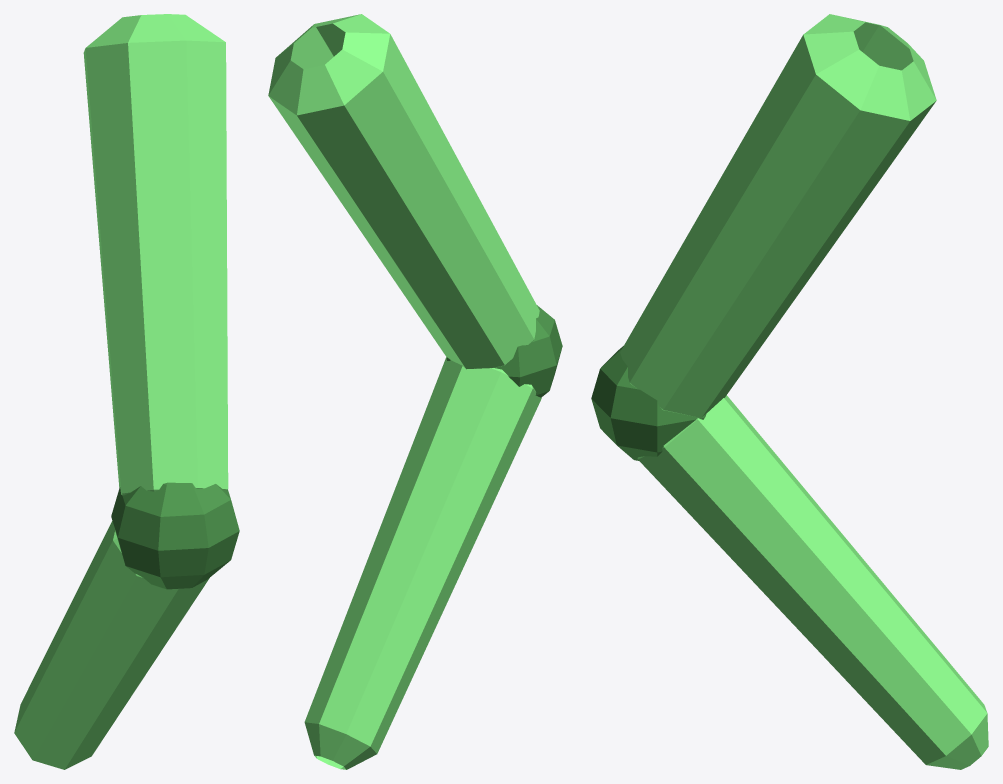
The model's file is imp_leg_L.obj.
The picture shows the model from 3 angles, left to right: view 1: azimuth 30°, elevation 25°; view 2: azimuth 150°, elevation 25°; view 3: azimuth 270°, elevation 25°; orthographic projection. The views are drawn at different scales.
Visible parts, largest first — view 1: leg_upper_L, leg_lower_L, leg_joint_L; view 2: leg_upper_L, leg_lower_L, leg_joint_L; view 3: leg_upper_L, leg_lower_L, leg_joint_L.
Part boxes in pixels (x1=…): leg_upper_L: x1=83, y1=14, x2=228, y2=495; leg_lower_L: x1=14, y1=521, x2=209, y2=769; leg_joint_L: x1=111, y1=482, x2=239, y2=589; leg_upper_L: x1=268, y1=14, x2=539, y2=369; leg_lower_L: x1=304, y1=357, x2=541, y2=769; leg_joint_L: x1=446, y1=305, x2=562, y2=397; leg_upper_L: x1=620, y1=14, x2=936, y2=417; leg_lower_L: x1=637, y1=395, x2=988, y2=769; leg_joint_L: x1=591, y1=346, x2=706, y2=460.
Size of the model in its own units: 0.1694 by 0.5979 by 0.2817.
